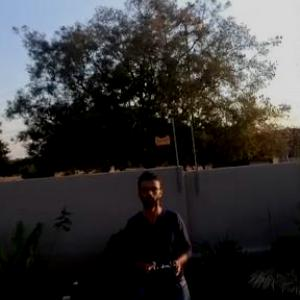follow: (121, 169, 203, 299)
